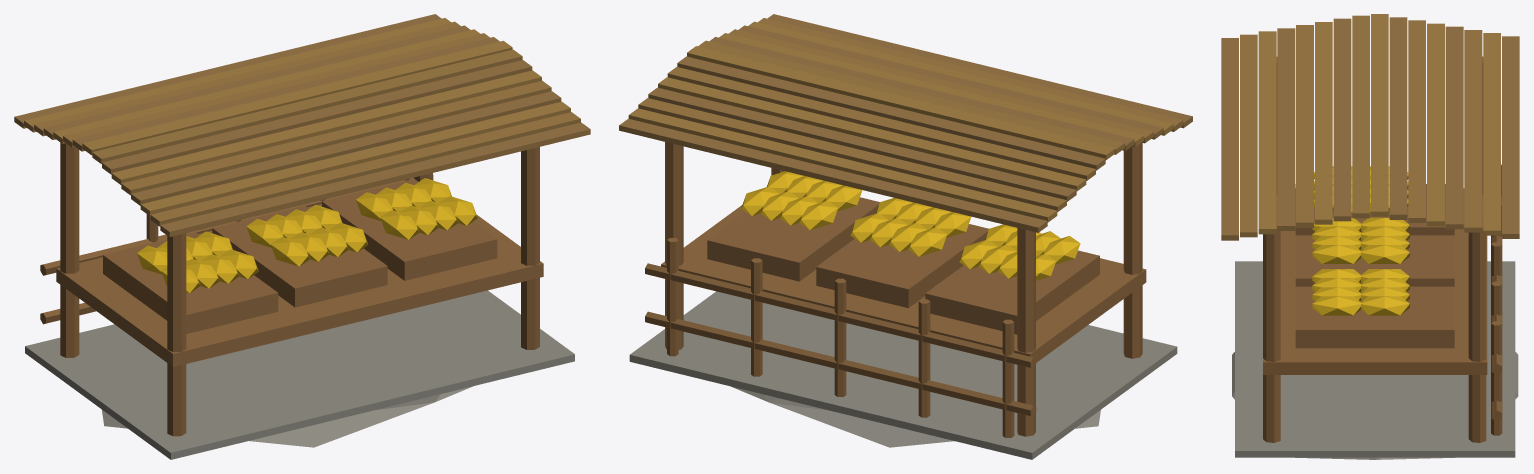
The model's file is stall.glb.
3 renders of one model, left to right at view 1: azimuth 30°, elevation 25°; view 2: azimuth 150°, elevation 25°; view 3: azimuth 270°, elevation 25°, orthographic. The views are drawn at different scales.
Parts seen in each view (by area): view 1: StallMesh; view 2: StallMesh; view 3: StallMesh.
Boxes of the visible parts, x1=… form: StallMesh: x1=14, y1=14, x2=590, y2=459; StallMesh: x1=619, y1=14, x2=1192, y2=459; StallMesh: x1=1221, y1=14, x2=1519, y2=459.
Bounding box in the file's own units: 5 × 3.3 × 3.19.
